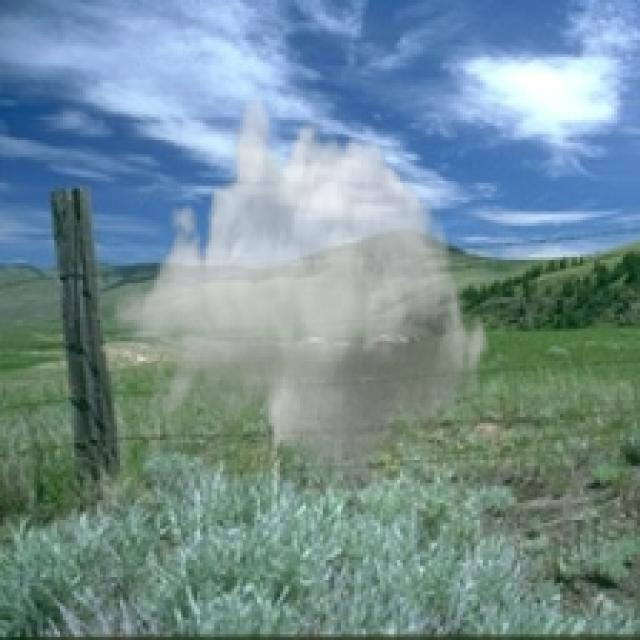Smoke: (112, 94, 494, 497)
